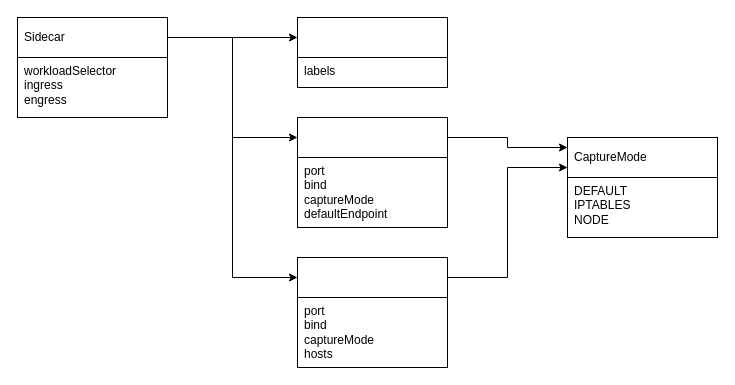
Some shapes in this 735 by 385 pixel diagram are drawn without their labels. The centre of each missing label's shape, as x and y in pixels:
"IstioEngressListener" goes at point (372, 277).
"IstioIngressListener" goes at point (372, 137).
"WorkloadSelector" goes at point (372, 37).
